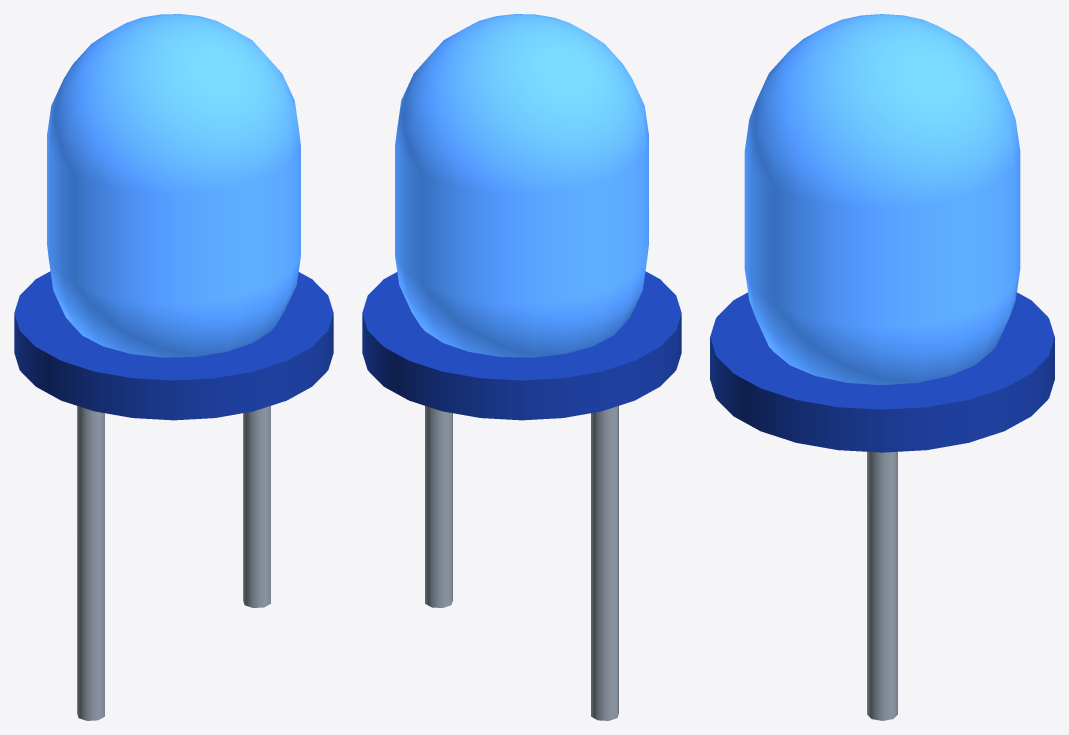
Rendered from led-blue.gltf.
3 views of the same model, side by side, from view 1: azimuth 30°, elevation 25°; view 2: azimuth 150°, elevation 25°; view 3: azimuth 270°, elevation 25° (orthographic). The views are drawn at different scales.
Visible parts, largest first — view 1: lens, collar, anode, cathode; view 2: lens, collar, anode, cathode; view 3: lens, collar, cathode.
Boxes of the visible parts, x1,y1,x2,y2 form: lens: [47, 14, 300, 357]; collar: [14, 271, 333, 420]; anode: [77, 406, 104, 720]; cathode: [243, 406, 270, 607]; lens: [395, 14, 648, 357]; collar: [362, 271, 681, 420]; anode: [591, 406, 618, 720]; cathode: [425, 406, 452, 607]; lens: [744, 14, 1020, 385]; collar: [710, 292, 1054, 452]; cathode: [867, 451, 897, 720].
Bounding box in the file's own units: 0.4 × 0.925 × 0.4.
